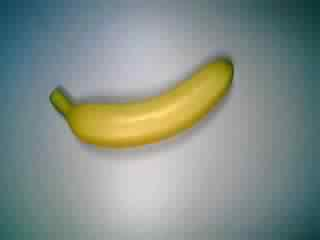banana: (54, 56, 232, 150)
